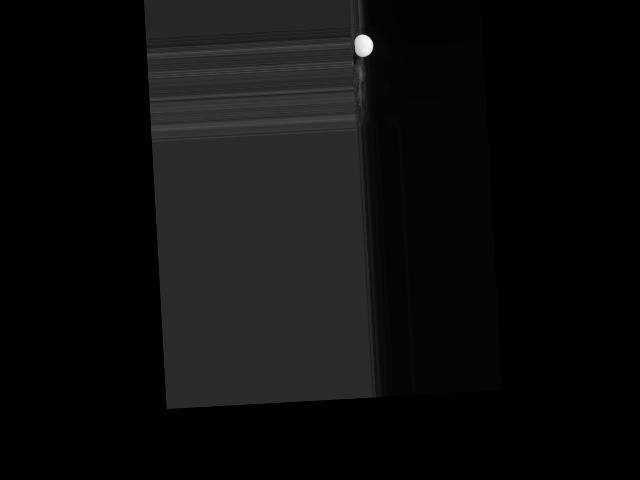egg: (354, 34, 373, 58)
